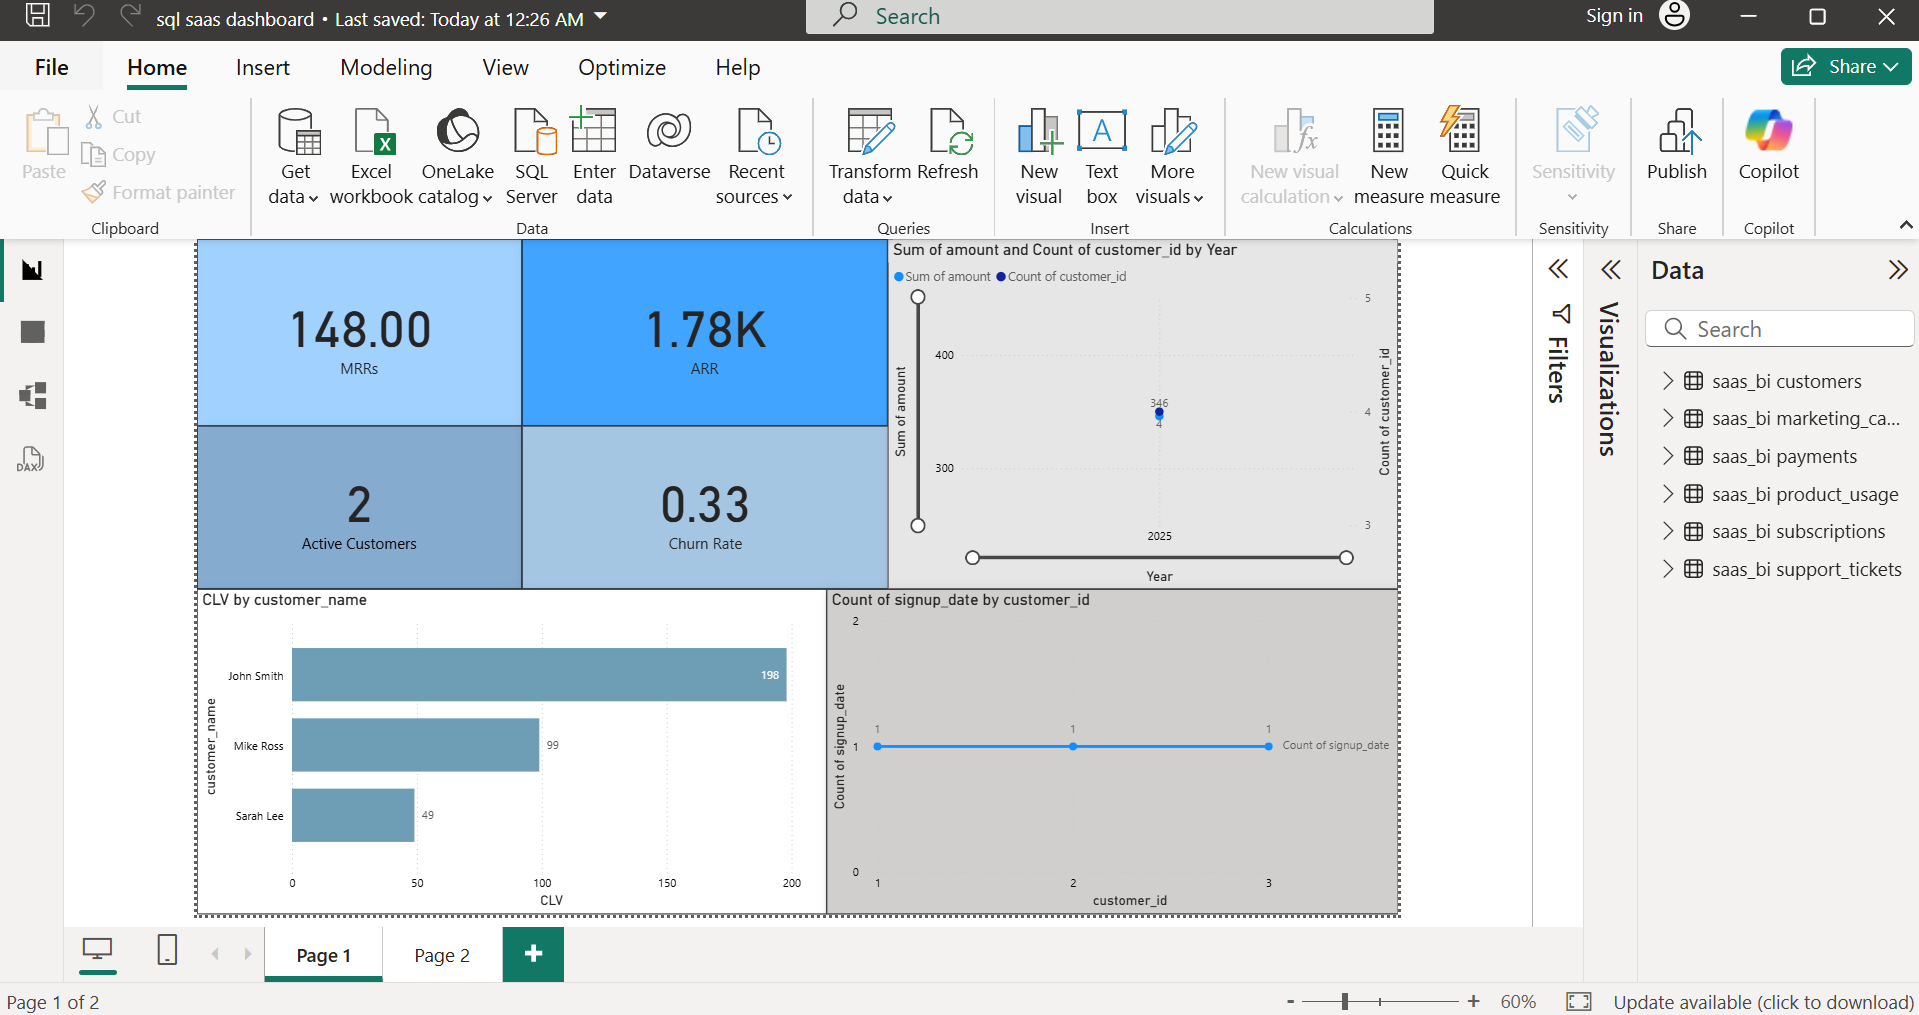

The page's visual inventory and layout, read from the dashboard file:
{"tool":"powerbi","page":{"name":"Page 1","canvas":[1280,720],"ordinal":0},"visuals":[{"type":"card","fields":{"Values":["saas_bi subscriptions.MRRs"]},"box":[0,0,346.5,199.2],"z":0},{"type":"card","fields":{"Values":["saas_bi subscriptions.Active Customers"]},"box":[0,199.2,346.5,174.1],"z":1000},{"type":"card","fields":{"Values":["saas_bi subscriptions.ARR"]},"box":[346.5,0,390,199.2],"z":2000},{"type":"card","fields":{"Values":["saas_bi subscriptions.Churn Rate"]},"box":[346.5,199.2,391.7,174.1],"z":3000},{"type":"lineChart","fields":{"Category":["saas_bi payments.payment_date.Variation.Date Hierarchy.Year","saas_bi payments.payment_date.Variation.Date Hierarchy.Quarter","saas_bi payments.payment_date.Variation.Date Hierarchy.Month","saas_bi payments.payment_date.Variation.Date Hierarchy.Day"],"Y":["Sum(saas_bi payments.amount)"],"Y2":["CountNonNull(saas_bi payments.customer_id)"]},"box":[736.4,0,544,373.2],"z":4000},{"type":"barChart","fields":{"Category":["saas_bi customers.customer_name"],"Y":["saas_bi subscriptions.CLV"]},"box":[0,373.2,671.2,346.5],"z":5000},{"type":"lineChart","fields":{"Y":["CountNonNull(saas_bi customers.signup_date)"],"Category":["saas_bi customers.customer_id"]},"box":[671.2,373.2,609.2,346.5],"z":6000}]}

Visuals, with their boxes on the page's 1280x720 design canvas (x1, y1, x2, y2). These are canvas units, not pixel positions in the 1919x1015 screenshot, which may show the page scaled, cropped or inside an application window:
card - saas_bi subscriptions.MRRs: locate(0, 0, 346, 199)
card - saas_bi subscriptions.Active Customers: locate(0, 199, 346, 373)
card - saas_bi subscriptions.ARR: locate(346, 0, 736, 199)
card - saas_bi subscriptions.Churn Rate: locate(346, 199, 738, 373)
lineChart - saas_bi payments.payment_date.Variation.Date Hierarchy.Year x saas_bi payments.payment_date.Variation.Date Hierarchy.Quarter: locate(736, 0, 1280, 373)
barChart - saas_bi customers.customer_name x saas_bi subscriptions.CLV: locate(0, 373, 671, 720)
lineChart - CountNonNull(saas_bi customers.signup_date) x saas_bi customers.customer_id: locate(671, 373, 1280, 720)
